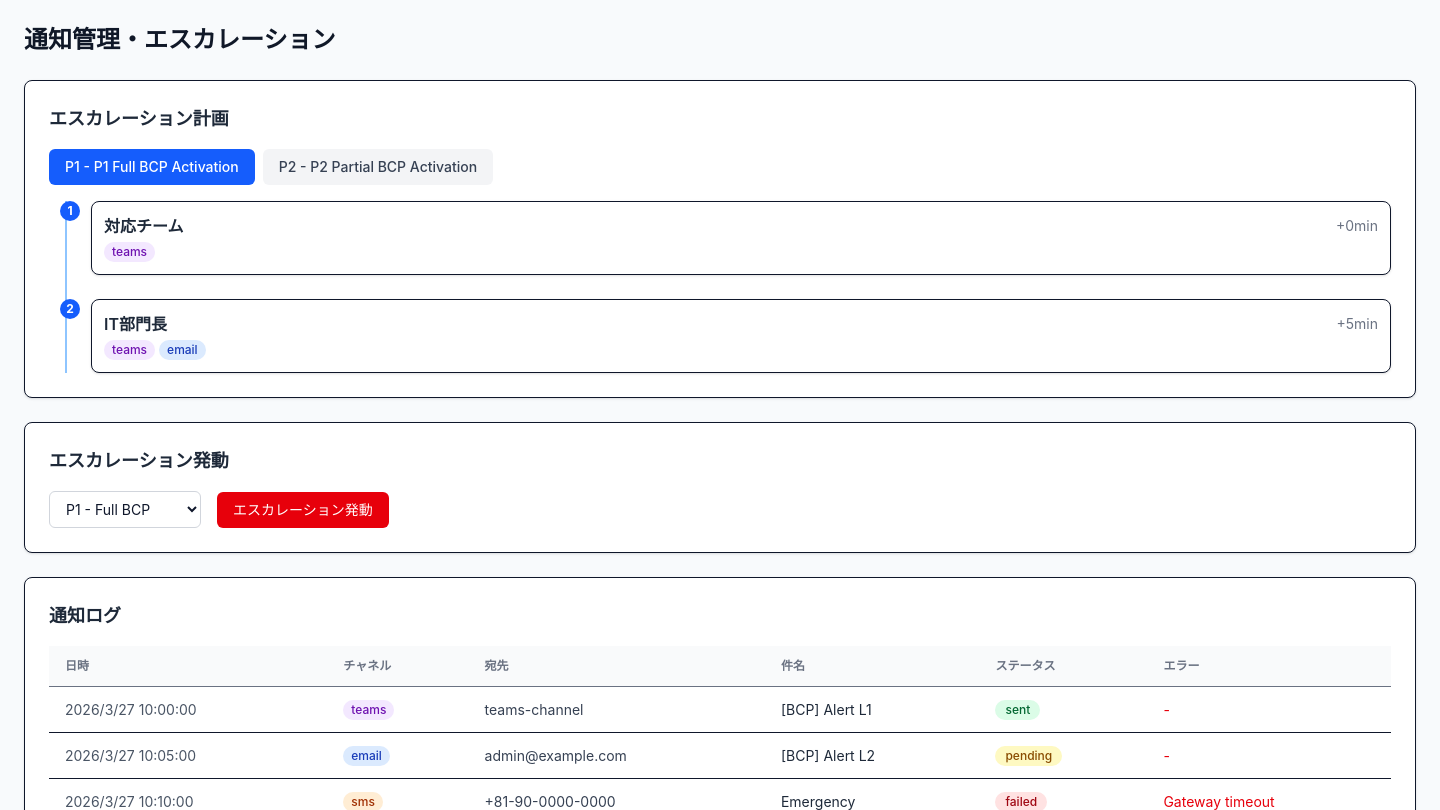
Scenario: NotificationsPage escalation trigger › hides confirmation dialog when cancel clicked
This screenshot has width=1440, height=810.
Click the button "エスカレーション発動".
click(303, 510)  # box left=217, top=492, right=389, bottom=528
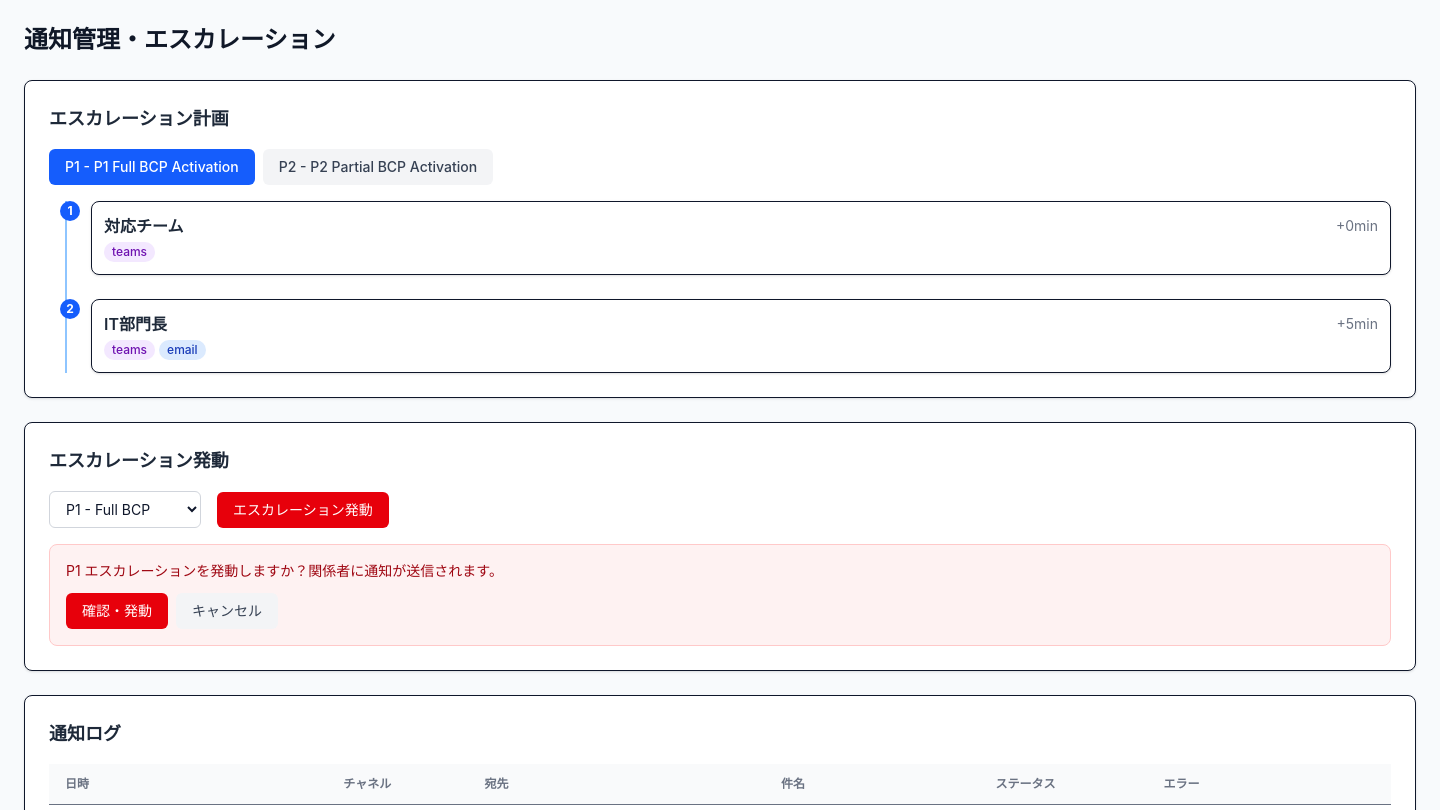
Now the text "P1 エスカレーションを発動しますか？関係者に通知が送信されます。" is shown, box left=66, top=562, right=503, bottom=579
Click the button "キャンセル".
click(227, 611)  # box left=176, top=593, right=278, bottom=629
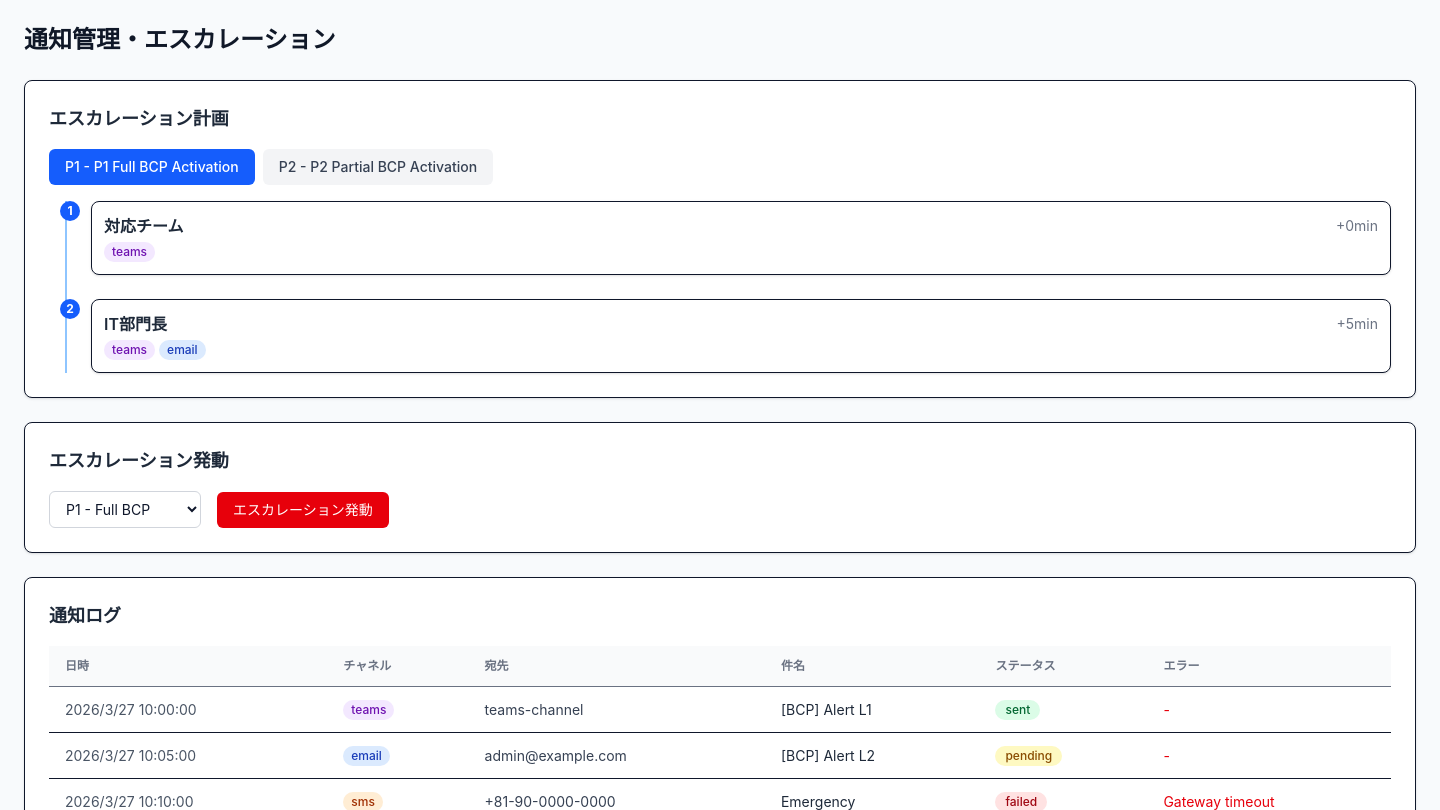
Now the text "エスカレーションを発動しますか" is gone
